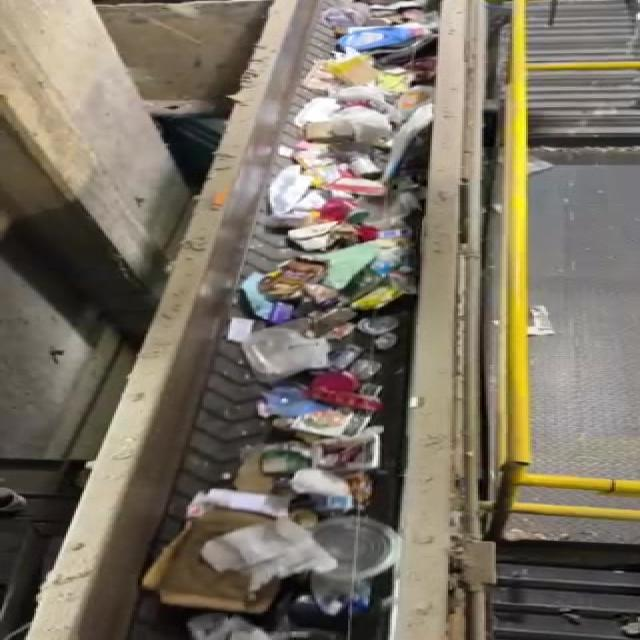paper: (153, 487, 301, 612)
pp: (285, 423, 404, 485), (310, 510, 406, 586)
